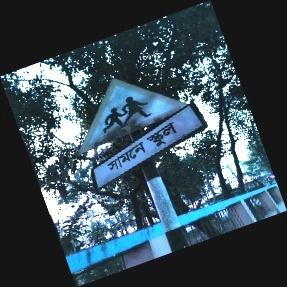School-in-front: (85, 90, 206, 192)
